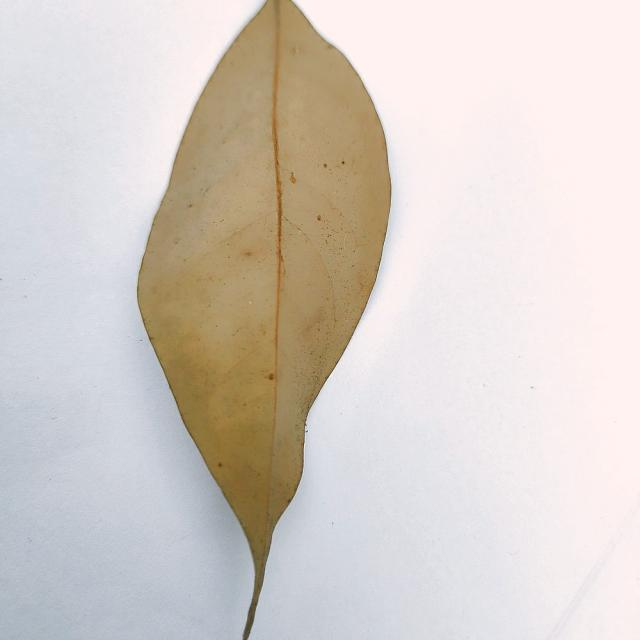Dry_Leaf-Lychee: (136, 0, 393, 639)
